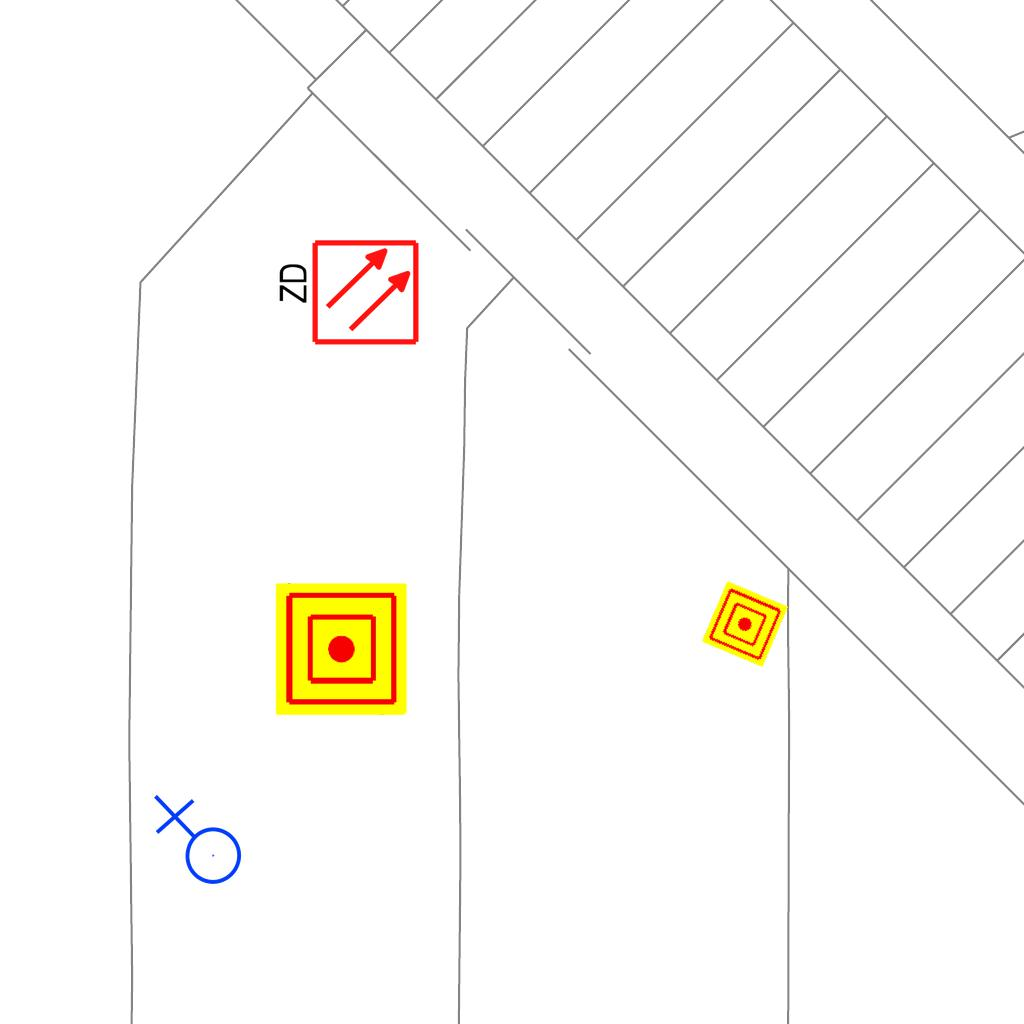Elektroanschluss_allgemein_230V_Geraeteanschlussdose_230V: (149, 794, 243, 893)
NAM-Nichtautomatischer_Melder: (275, 583, 407, 715), (701, 580, 789, 668)
ZD_Melder_in_Zwischendecke_mit_Revisionsoeffnung_mind_40_x_40_cm: (272, 237, 421, 351)
